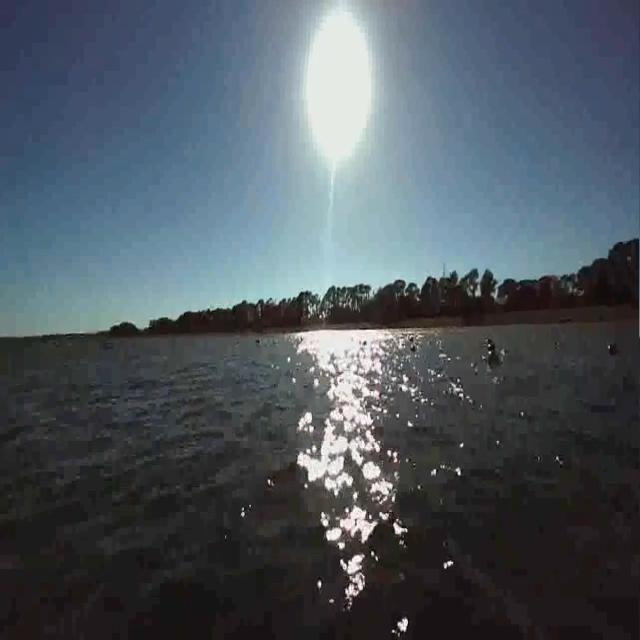red-buoy: (608, 343, 616, 356)
